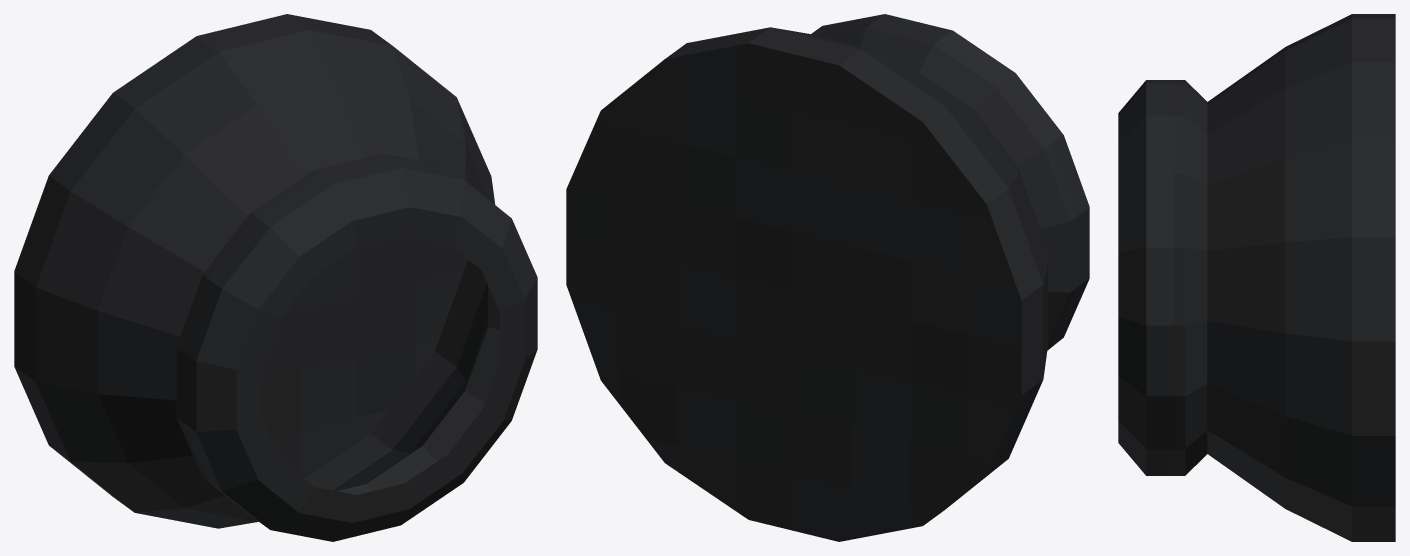
Rendered from decopole_anaheim_tenon_n.obj.
The picture shows the model from 3 angles, left to right: view 1: azimuth 30°, elevation 25°; view 2: azimuth 150°, elevation 25°; view 3: azimuth 270°, elevation 25°; orthographic projection.
Visible parts, largest first — view 1: decopole_anaheim_tenon_n; view 2: decopole_anaheim_tenon_n; view 3: decopole_anaheim_tenon_n.
Part boxes in pixels (bbox=[...]): decopole_anaheim_tenon_n: bbox=[14, 14, 537, 541]; decopole_anaheim_tenon_n: bbox=[566, 14, 1089, 541]; decopole_anaheim_tenon_n: bbox=[1118, 14, 1395, 541].
Size of the model in its own units: 0.5885 by 0.5885 by 0.3113.
